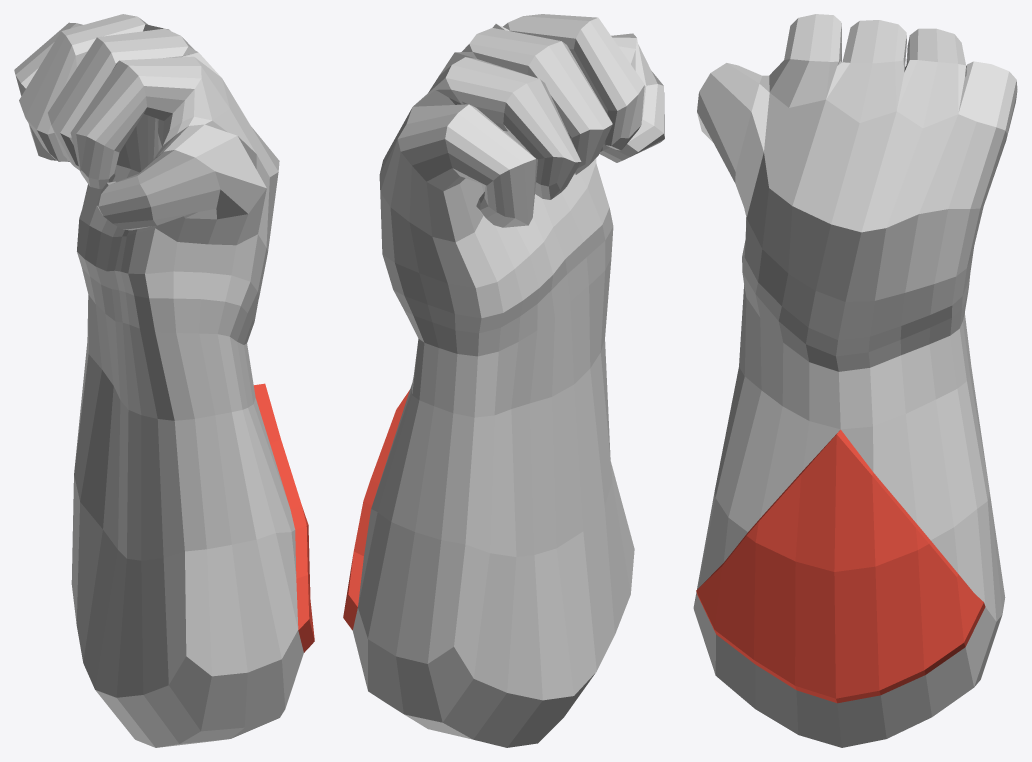
Rendered from Fist.fbx.
The picture shows the model from 3 angles, left to right: view 1: azimuth 30°, elevation 25°; view 2: azimuth 150°, elevation 25°; view 3: azimuth 270°, elevation 25°; orthographic projection. The views are drawn at different scales.
Visible parts, largest first — view 1: Gauntlet.001; view 2: Gauntlet.001; view 3: Gauntlet.001.
Part boxes in pixels (box(x1,y1,x2,y2)): Gauntlet.001: box(14, 14, 314, 747); Gauntlet.001: box(343, 14, 664, 747); Gauntlet.001: box(693, 14, 1017, 747).
Bounding box in the file's own units: 40.54 × 116 × 50.3.
